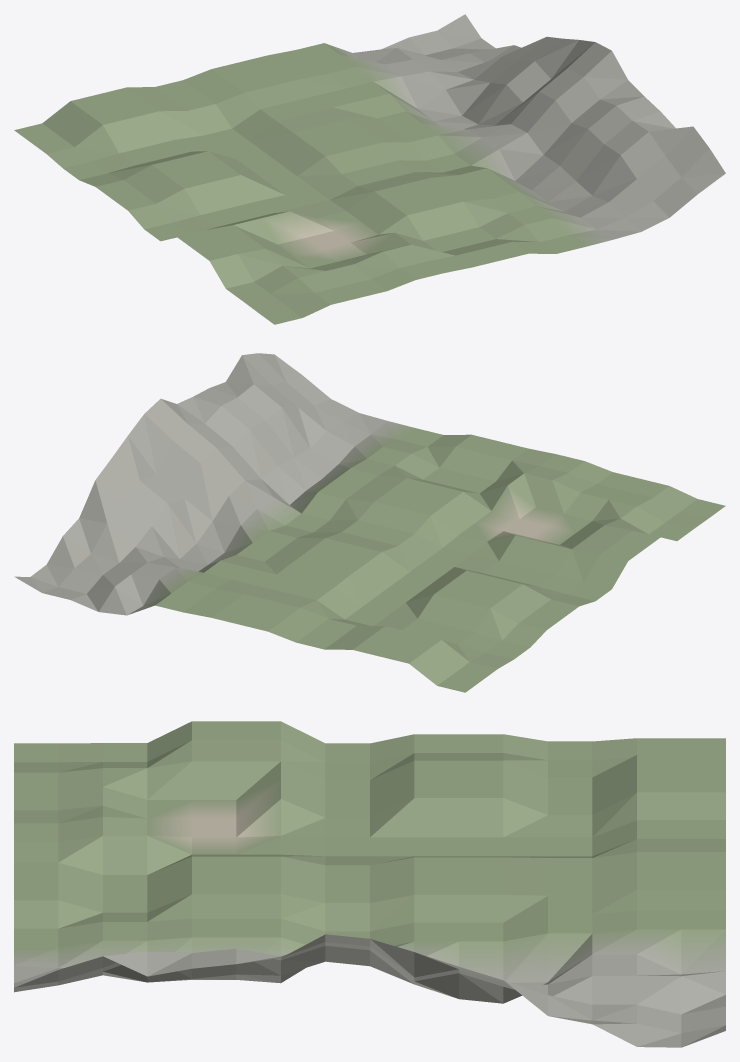
3 renders of one model, top to bottom at view 1: azimuth 30°, elevation 25°; view 2: azimuth 150°, elevation 25°; view 3: azimuth 270°, elevation 25°, orthographic. The views are drawn at different scales.
Size of the model in its own units: 32 by 6.24 by 32.
